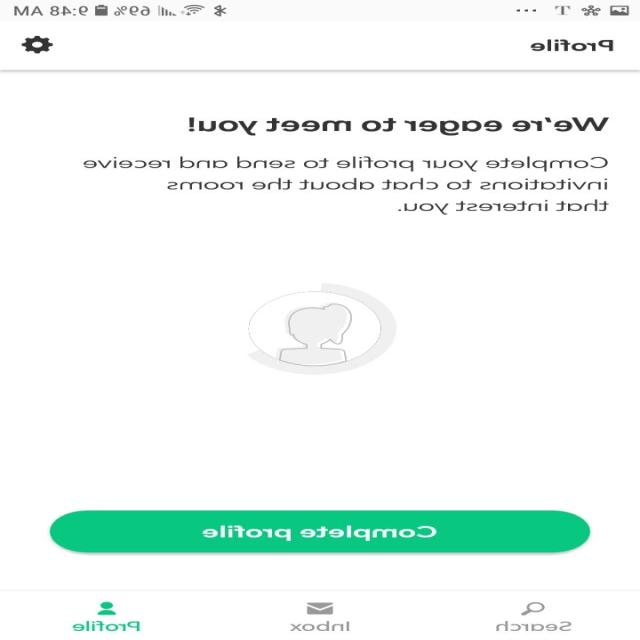Icon: (22, 35, 54, 54), (521, 602, 546, 616), (306, 602, 334, 614), (98, 601, 118, 615)
Image: (246, 282, 398, 375)
Text: (83, 156, 610, 214), (188, 117, 610, 136), (530, 39, 614, 52), (495, 620, 572, 631), (72, 620, 140, 631), (290, 620, 350, 631)
TextButton: (49, 509, 591, 553)
